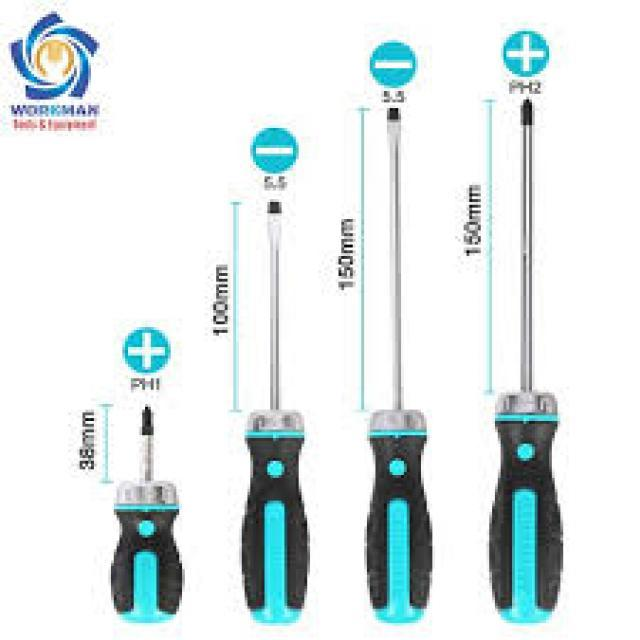screwdriver: (478, 97, 569, 623), (364, 107, 435, 628), (238, 196, 314, 626), (106, 401, 186, 623)
